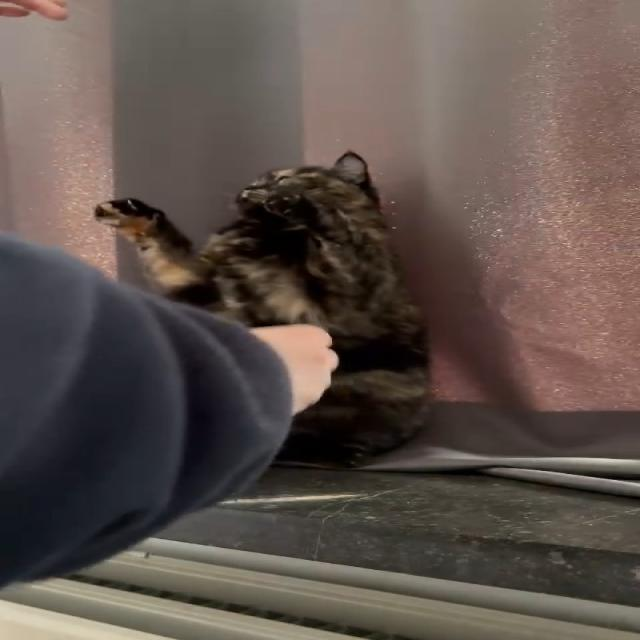authorized: (92, 150, 433, 468)
